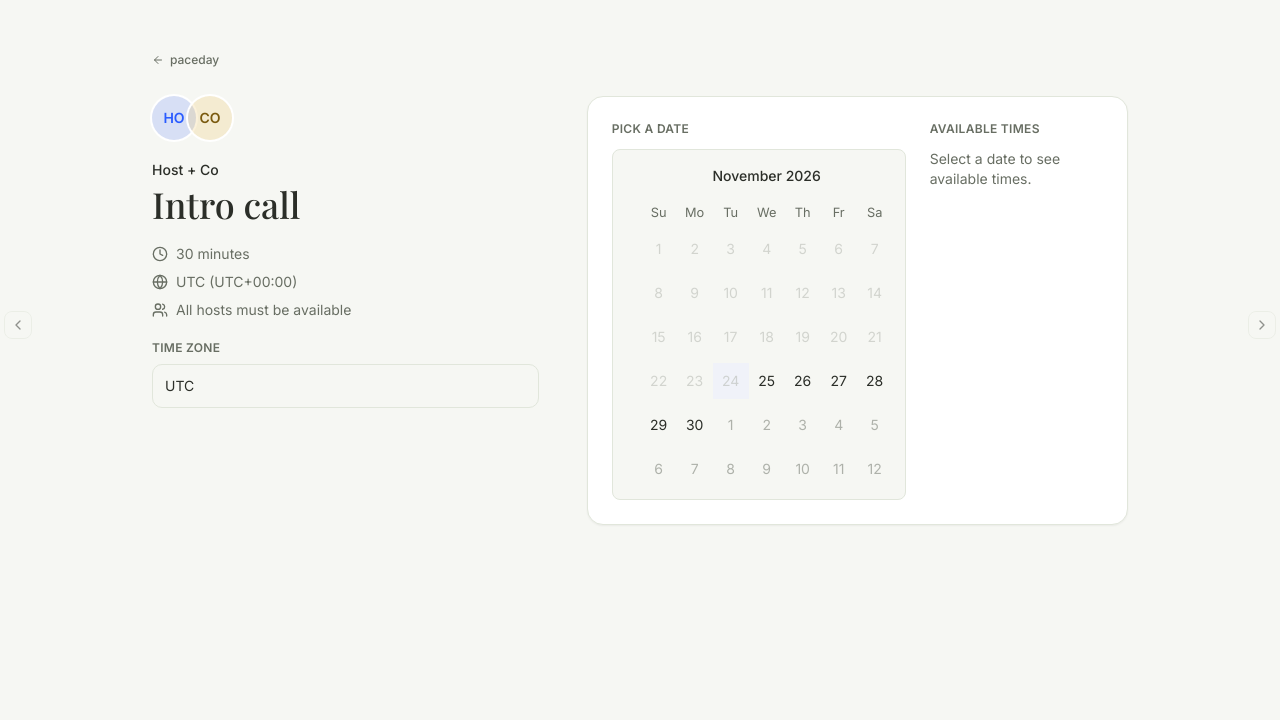
PAC-83 public booking › AC-21 / AC-25 (amended by PAC-82 AC-26): a booking whose answer is lost is sent once, says it may have been saved, keeps the details, re-reads the day, offers o
The image size is (1280, 720).
Click the button "25".
click(767, 381)  # box [749,363,785,399]
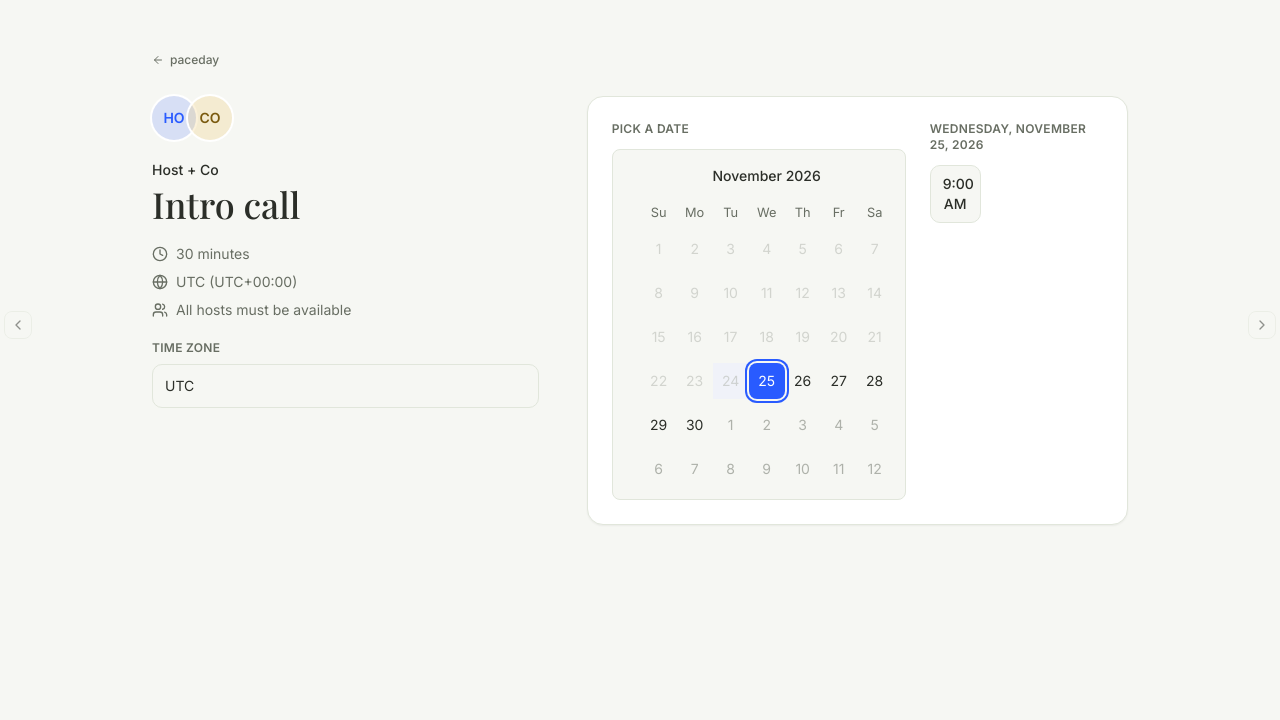
Expected: the button labelled "9:00 AM" is shown
Click the button labelled "9:00 AM".
click(955, 194)  # box [930,165,981,223]
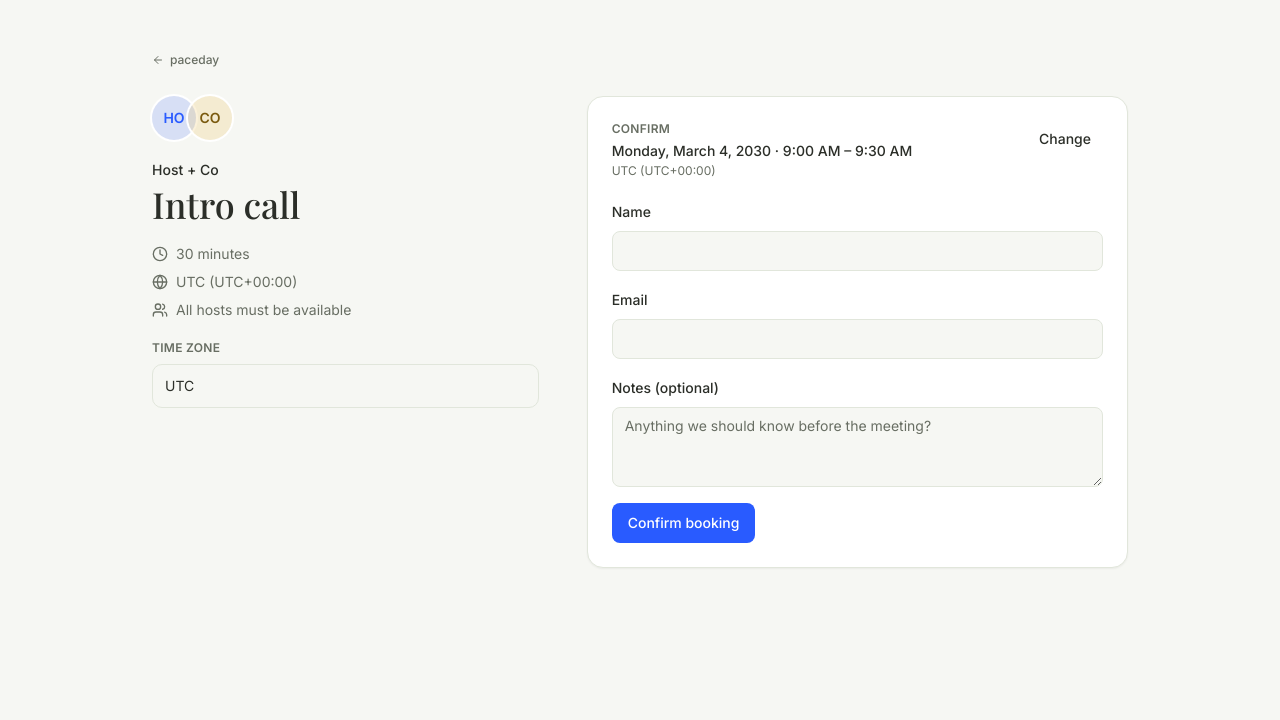
Type "Booker" into the field labelled "Name".
click(857, 251); type("Booker")  # box [612,231,1103,271]
Type "booker@co.com" into the field labelled "Email".
click(857, 339); type("booker@co.com")  # box [612,319,1103,359]
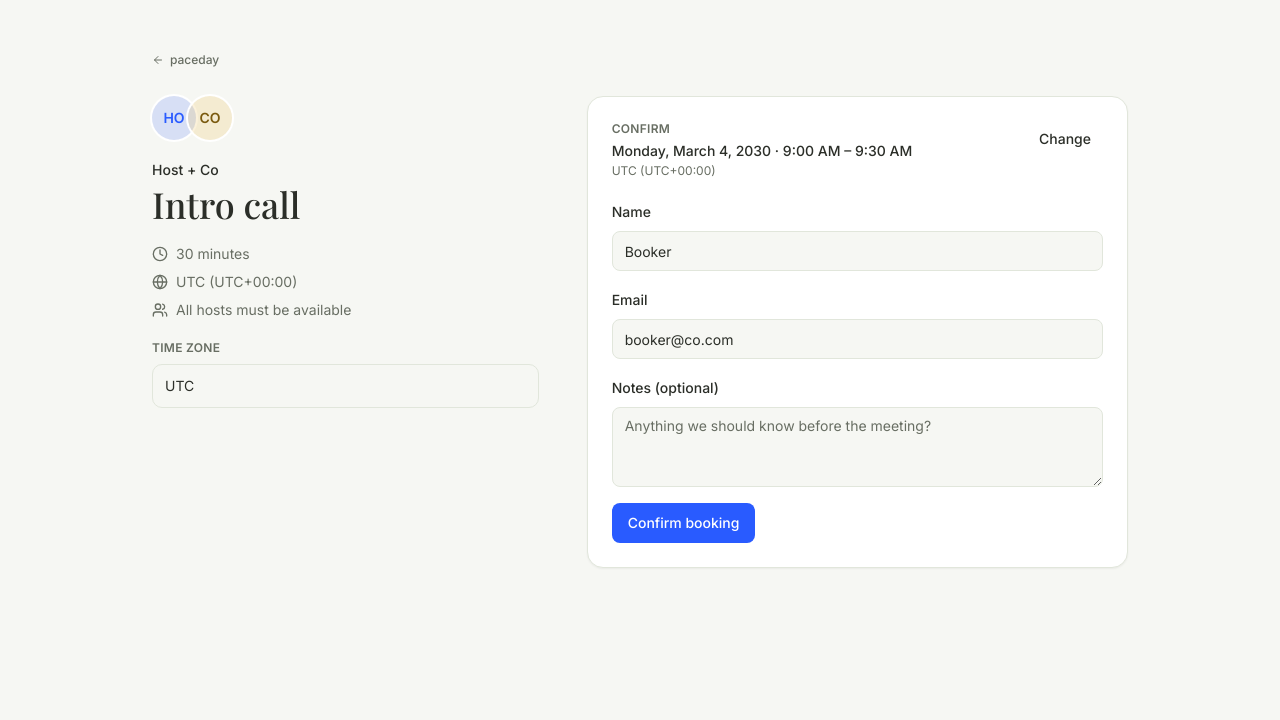
Type "Agenda" into the text box labelled "Notes (optional)".
click(857, 447); type("Agenda")  # box [612,407,1103,487]
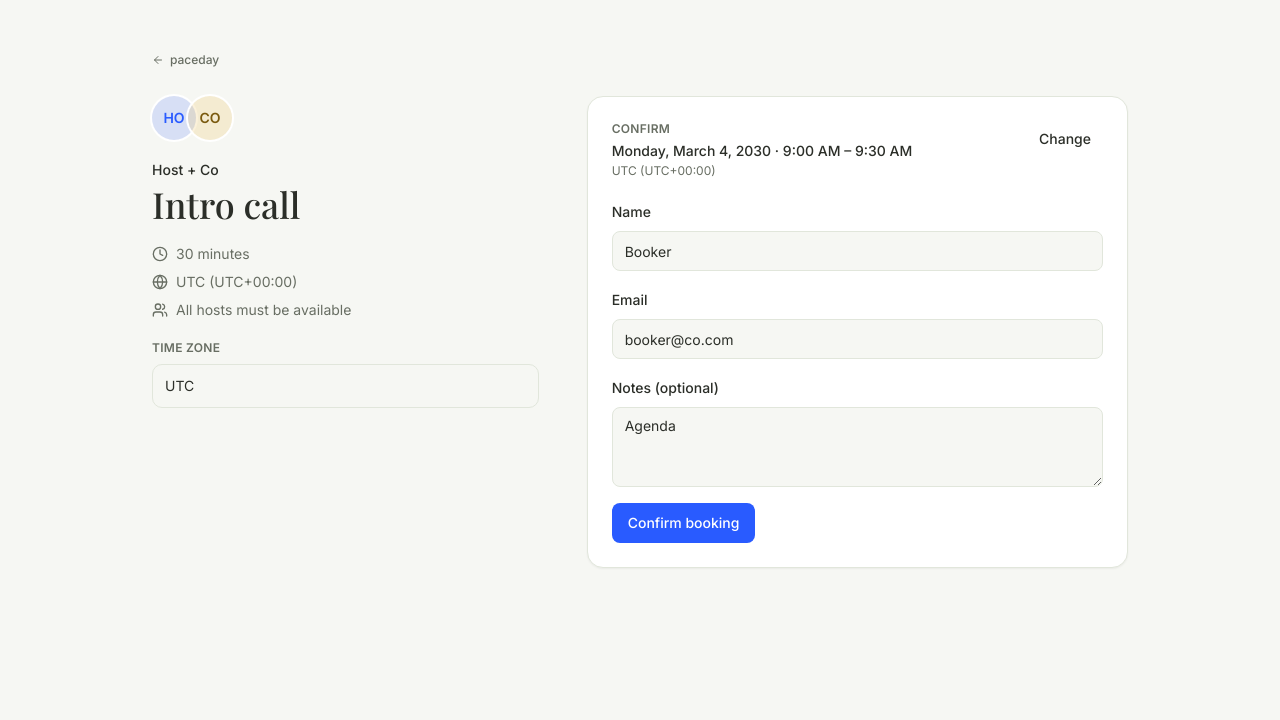
Click the button "Confirm booking".
click(684, 523)  # box [612,503,756,543]
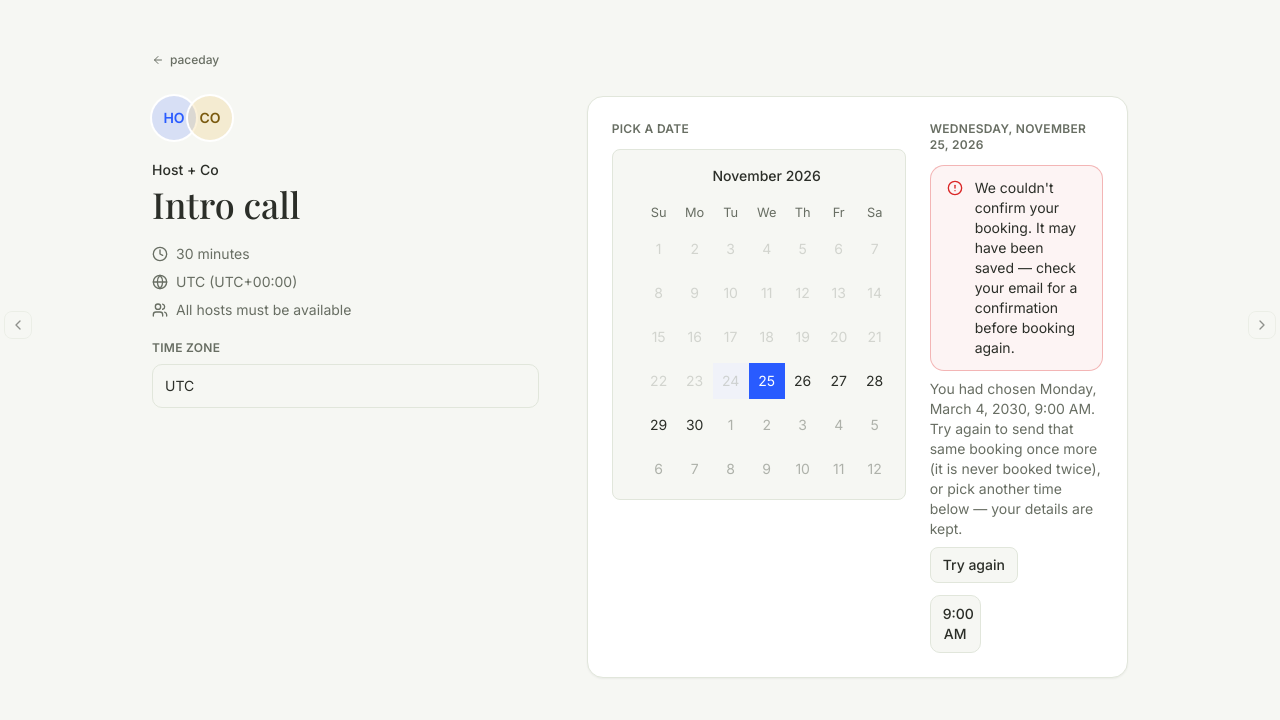
Expected: the message with test id "api-error" shows "We couldn't confirm your booking. It may have been saved — check your email for a confirmation before booking again.", [975,179,1077,356]
Expected: the button "Confirm booking" is gone
Expected: the number of buttons with test id "booking-try-again" is 1, [930,547,1018,583]
Click the button labelled "9:00 AM".
click(955, 624)  # box [930,595,981,653]
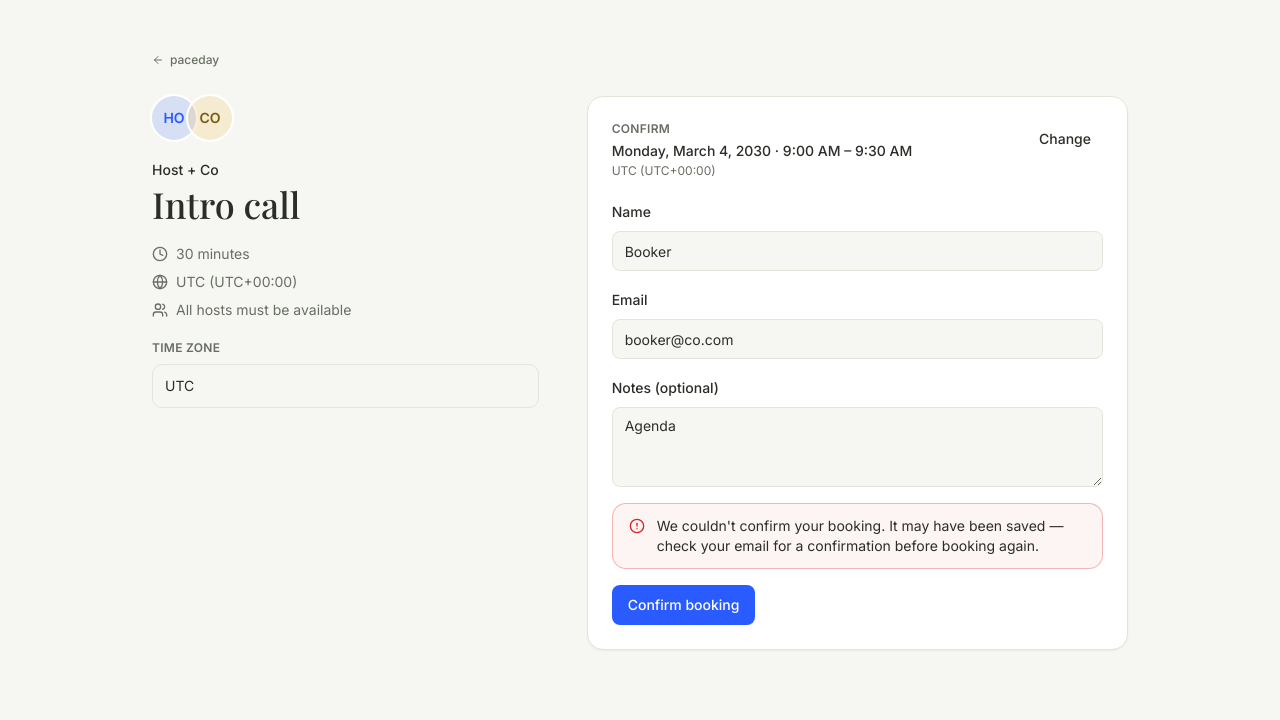
Expected: the field labelled "Name" holds "Booker", [612,231,1103,271]
Expected: the field labelled "Email" holds "booker@co.com", [612,319,1103,359]
Expected: the text box labelled "Notes (optional)" holds "Agenda", [612,407,1103,487]
